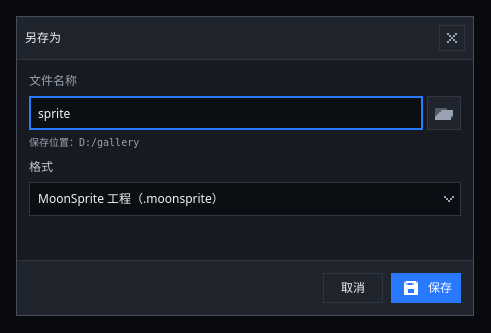
SaveAsDialog › chooses and displays a custom save location
Step 1. Click the button named "选择保存位置" → [444, 113], box left=427, top=96, right=461, bottom=130
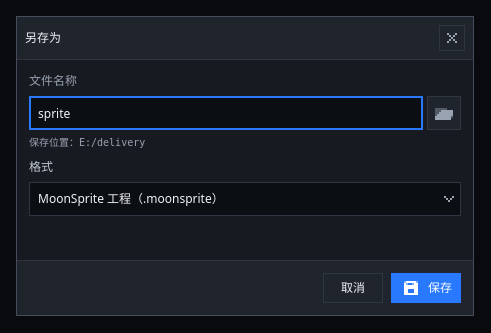
Check: the text "保存位置：E:/delivery" is shown, box left=29, top=137, right=145, bottom=148
